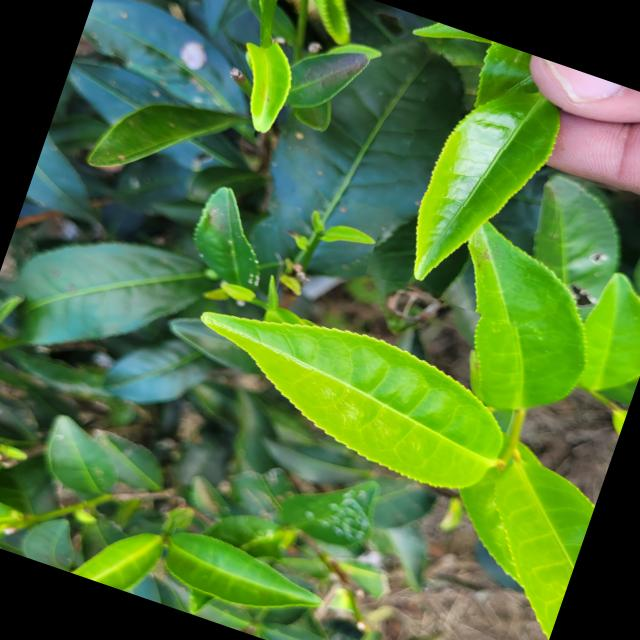Category B(2-4 days): (363, 40, 603, 329)
